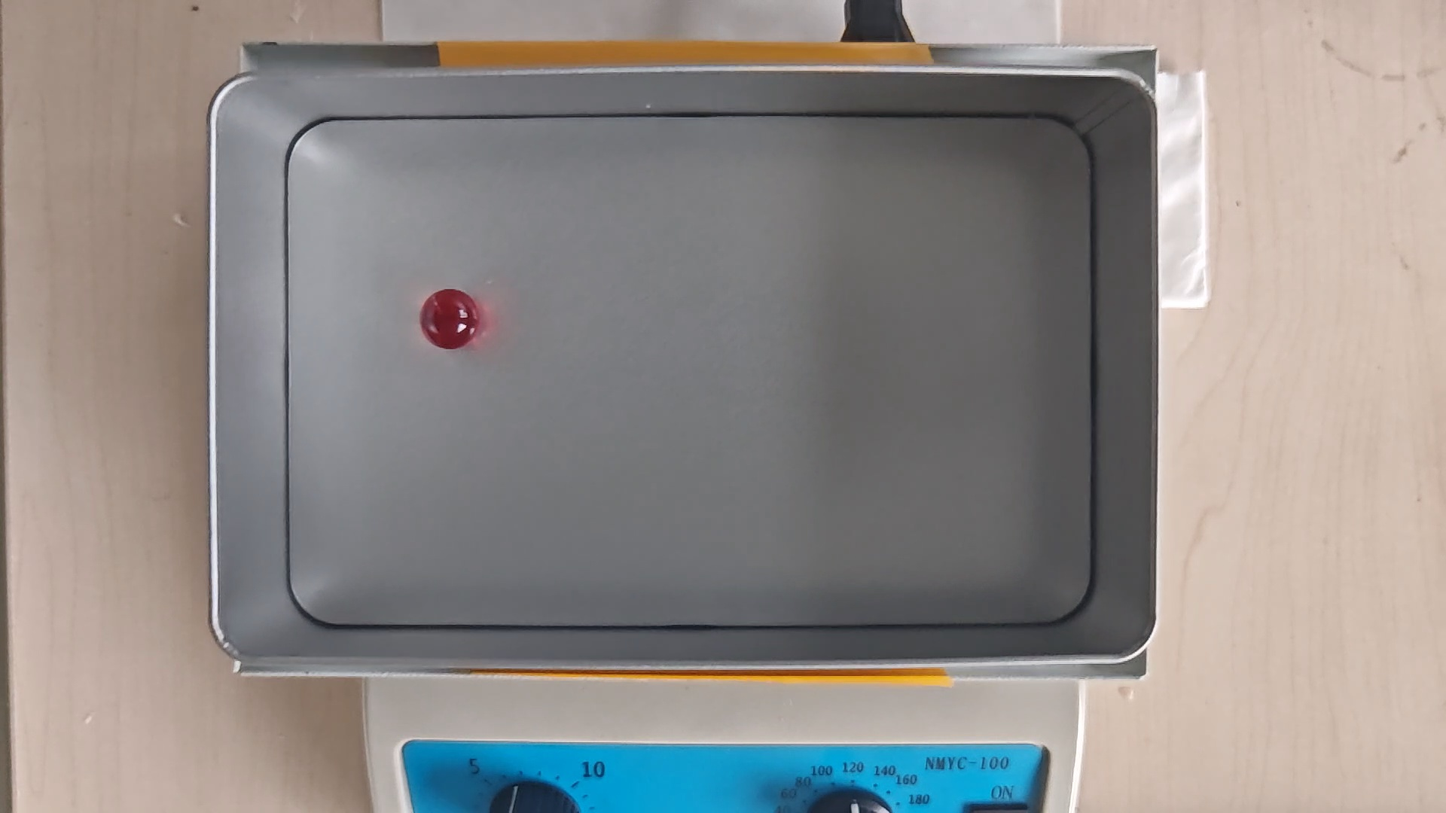ball: (421, 289, 480, 351)
container: (287, 116, 1093, 625)
